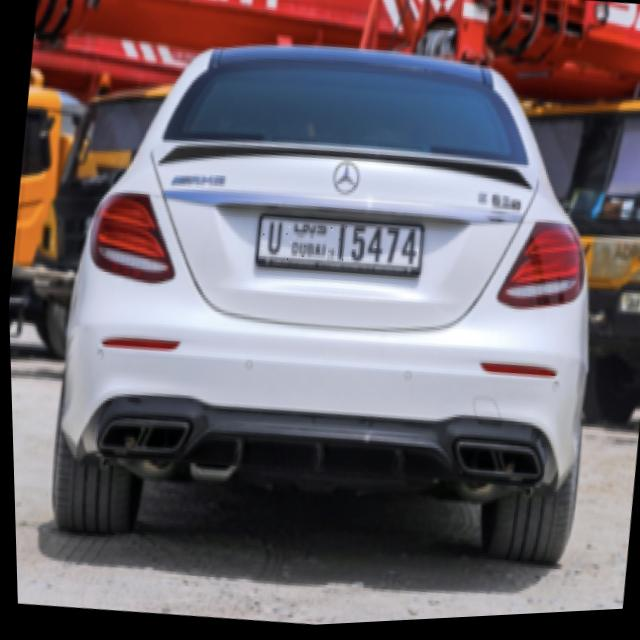license_plate: (254, 217, 424, 283)
